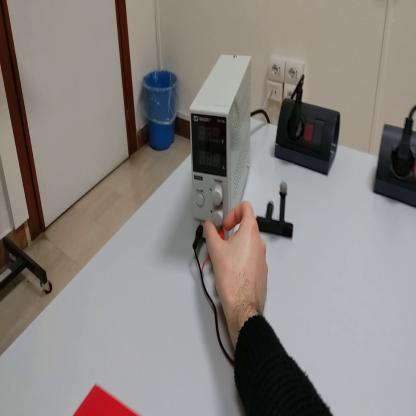hand: (203, 202, 271, 323)
power supply: (192, 54, 255, 243)
socket: (273, 95, 344, 177), (374, 121, 416, 209)
